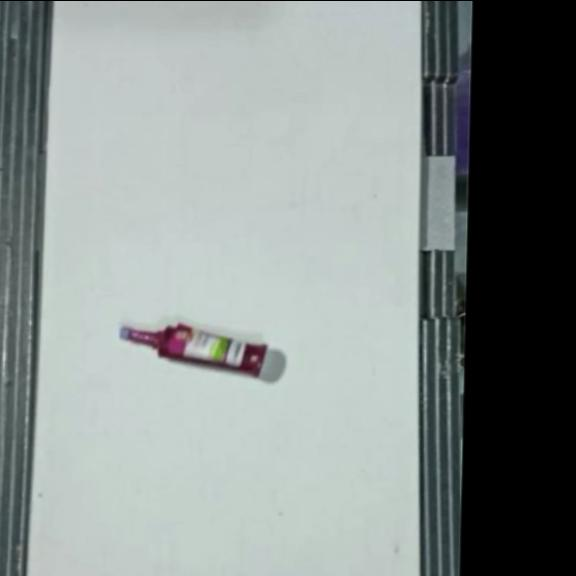Plastik: (118, 320, 269, 378)
